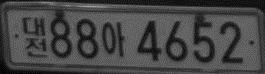2: (219, 20, 243, 63)
4: (137, 20, 162, 61)
5: (192, 21, 215, 63)
6: (165, 21, 188, 61)
8: (75, 17, 99, 59), (50, 17, 72, 58)
대전_V: (22, 16, 48, 58)
아: (101, 21, 125, 57)
